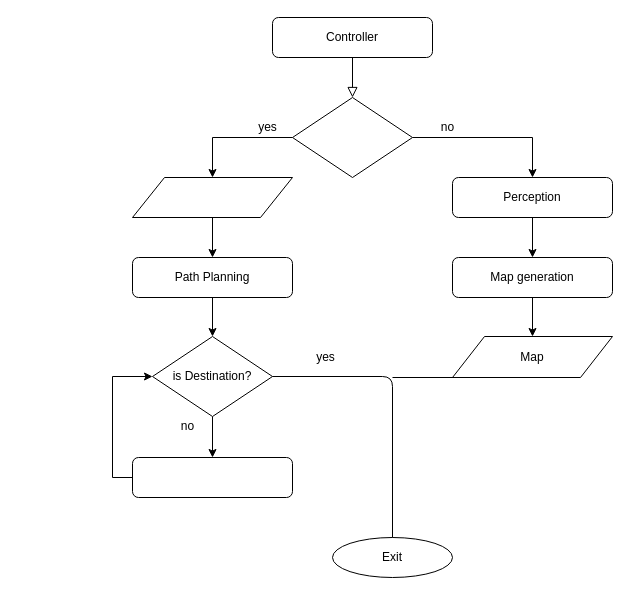
The diagram is 630 pixels wide and 595 high, and some of its shapes have lost their labels. The shapes that lost their labels are listed below. From the top down, each one's box as (x1, y1, x2, y2) in pixels, then its label:
(292, 96, 412, 178): Load Map?
(132, 176, 292, 218): Enter Destination
(132, 456, 292, 498): Navigation
